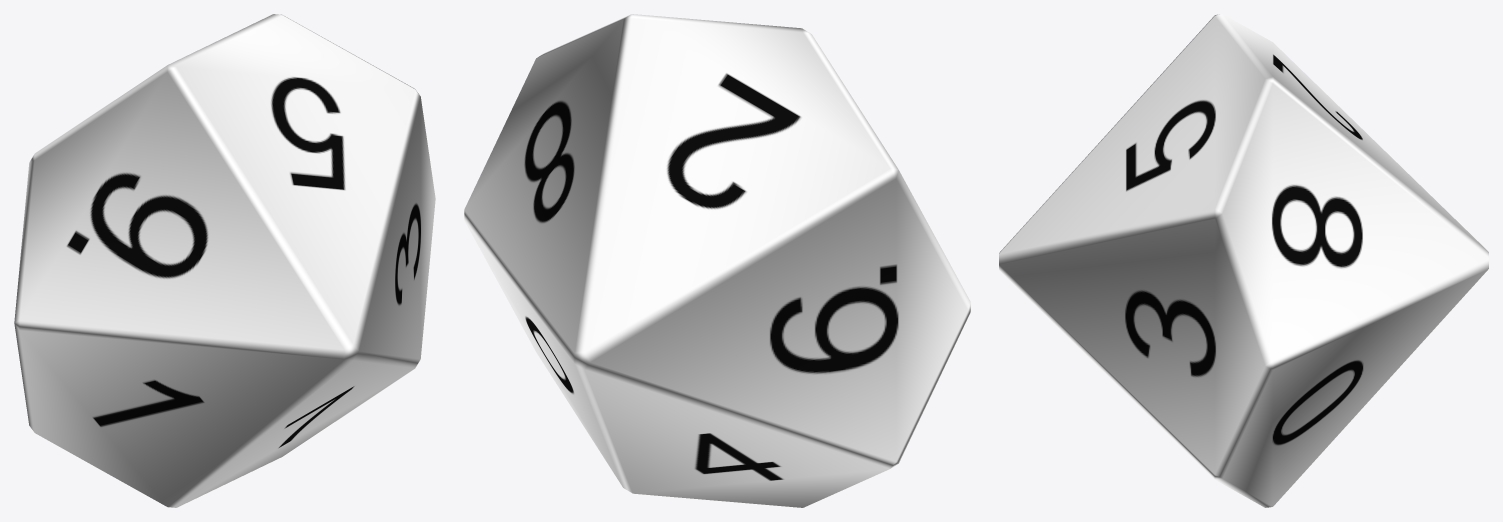
3 views of the same model, side by side, from view 1: azimuth 30°, elevation 25°; view 2: azimuth 150°, elevation 25°; view 3: azimuth 270°, elevation 25° (orthographic). The views are drawn at different scales.
Size of the model in its own units: 175 by 166 by 172.
Materials: 1 (1 with a texture image).
